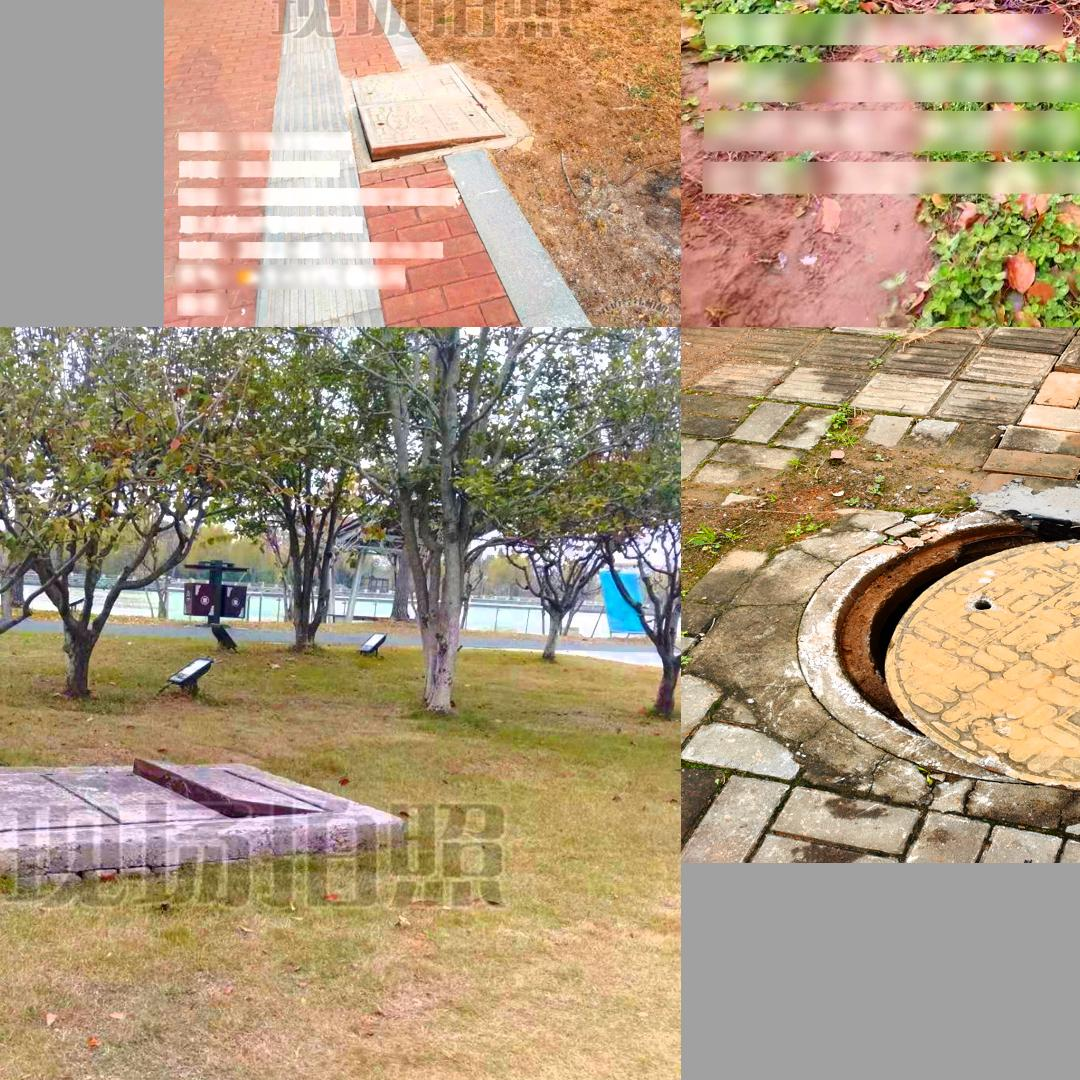uncovered: (806, 519, 1080, 765), (0, 753, 446, 853), (341, 59, 512, 173)
